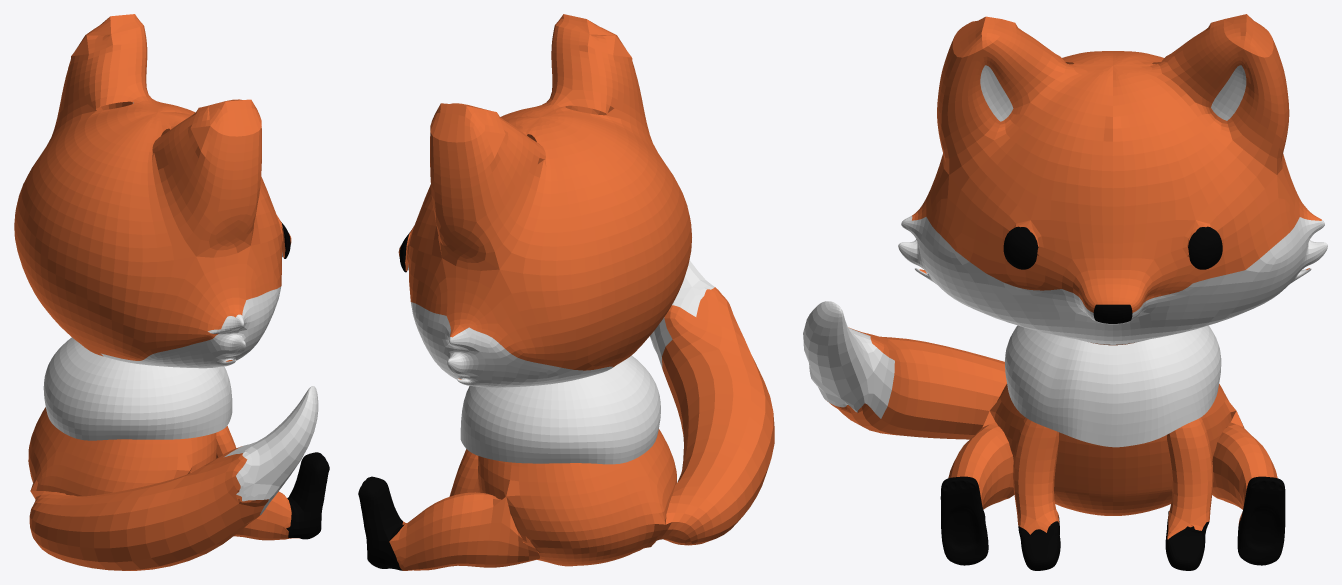
File: fox.glb
The picture shows the model from 3 angles, left to right: view 1: azimuth 30°, elevation 25°; view 2: azimuth 150°, elevation 25°; view 3: azimuth 270°, elevation 25°; orthographic projection. The views are drawn at different scales.
Parts seen in each view (by area): view 1: Cube.002_1; view 2: Cube.002_1; view 3: Cube.002_1.
Boxes of the visible parts, <box> form: Cube.002_1: <box>14,14,329,570</box>; Cube.002_1: <box>358,14,774,570</box>; Cube.002_1: <box>803,14,1327,570</box>.
Bounding box in the file's own units: 3.51 × 5.41 × 4.97.
